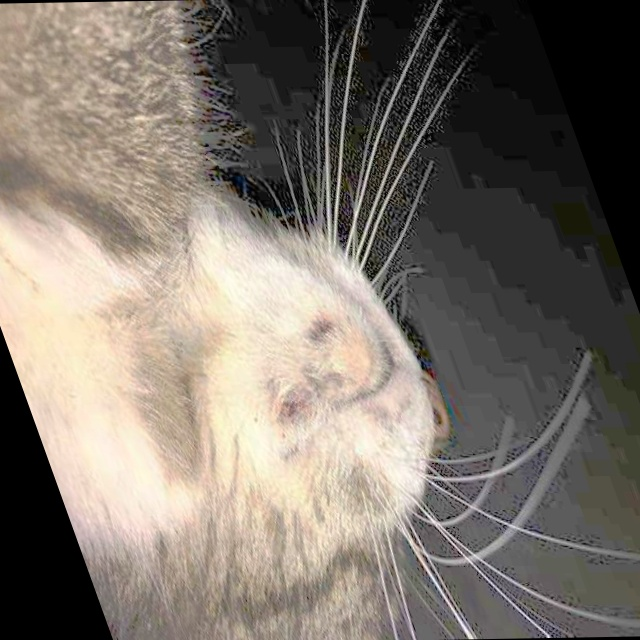acne: (233, 316, 369, 428)
